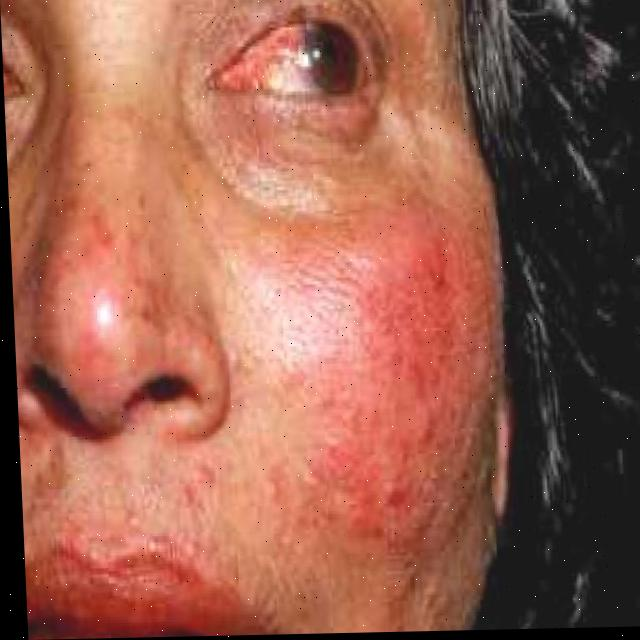Rosacea: (299, 236, 526, 571), (63, 198, 144, 295)
